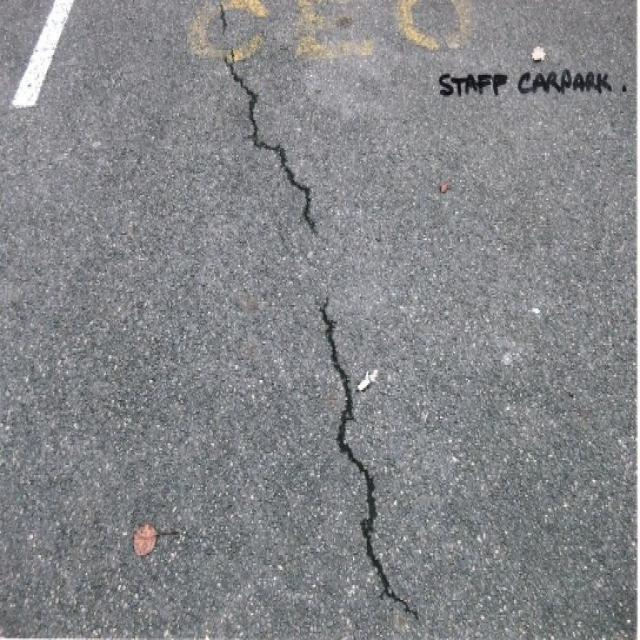Longitudinal: (199, 0, 426, 614)
